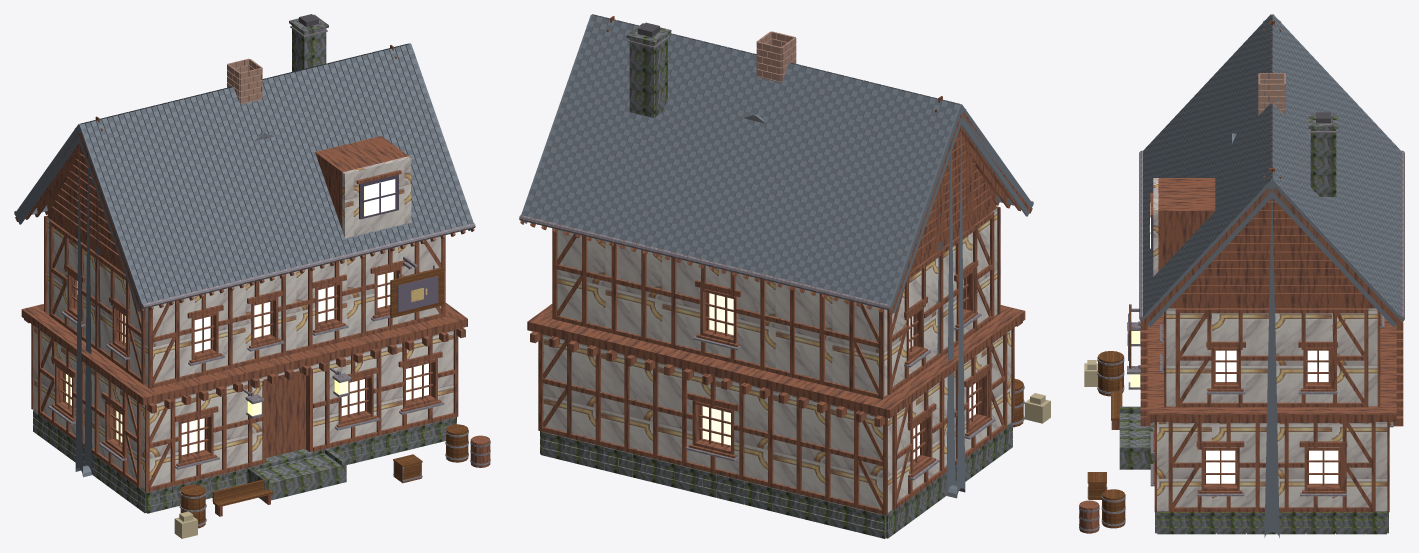
File: vardshus.glb
The picture shows the model from 3 angles, left to right: view 1: azimuth 30°, elevation 25°; view 2: azimuth 150°, elevation 25°; view 3: azimuth 270°, elevation 25°; orthographic projection. The views are drawn at different scales.
Parts seen in each view (by area): view 1: vardshus_mörkt_virke, vardshus_takpanna_ljus, vardshus_takpanna_mörk, vardshus_puts, vardshus_fot_sten, vardshus_fönster, vardshus_järn, vardshus_ljust_virke, vardshus_sten, vardshus_tegel, vardshus_mur, vardshus_skyltfält (+1 smaller); view 2: vardshus_mörkt_virke, vardshus_takpanna_ljus, vardshus_puts, vardshus_takpanna_mörk, vardshus_fot_sten, vardshus_järn, vardshus_mur, vardshus_fönster, vardshus_tegel, vardshus_halm; view 3: vardshus_mörkt_virke, vardshus_takpanna_ljus, vardshus_puts, vardshus_takpanna_mörk, vardshus_fot_sten, vardshus_järn, vardshus_fönster, vardshus_ljust_virke, vardshus_sten, vardshus_mur, vardshus_tegel.
Boxes of the visible parts, x1,y1,x2,y2 form: vardshus_mörkt_virke: (15, 45, 490, 516); vardshus_takpanna_ljus: (15, 43, 473, 477); vardshus_takpanna_mörk: (18, 43, 473, 472); vardshus_puts: (34, 156, 453, 489); vardshus_fot_sten: (33, 409, 456, 513); vardshus_fönster: (66, 179, 428, 454); vardshus_järn: (14, 26, 490, 526); vardshus_ljust_virke: (180, 267, 468, 528); vardshus_sten: (247, 14, 346, 500); vardshus_tegel: (227, 58, 262, 104); vardshus_mur: (292, 25, 326, 71); vardshus_skyltfält: (397, 276, 438, 312); vardshus_mörkt_virke: (520, 16, 1032, 515); vardshus_takpanna_ljus: (521, 14, 1032, 498); vardshus_puts: (543, 208, 1011, 512); vardshus_takpanna_mörk: (521, 14, 1030, 495); vardshus_fot_sten: (540, 422, 1012, 538); vardshus_järn: (519, 36, 1033, 480); vardshus_mur: (629, 35, 667, 117); vardshus_fönster: (702, 279, 975, 459); vardshus_tegel: (756, 31, 796, 82); vardshus_halm: (1024, 393, 1050, 423); vardshus_mörkt_virke: (1079, 16, 1403, 533); vardshus_takpanna_ljus: (1143, 14, 1401, 537); vardshus_puts: (1153, 178, 1387, 511); vardshus_takpanna_mörk: (1143, 17, 1401, 398); vardshus_fot_sten: (1155, 512, 1388, 534); vardshus_järn: (1079, 129, 1404, 531); vardshus_fönster: (1150, 203, 1338, 483); vardshus_ljust_virke: (1087, 304, 1131, 528); vardshus_sten: (1119, 114, 1338, 469); vardshus_mur: (1310, 129, 1336, 196); vardshus_tegel: (1258, 73, 1285, 115).
Size of the model in its own units: 14.5 by 15.7 by 12.03.
Materials: 17 (7 with a texture image).
